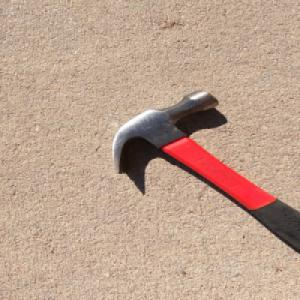Hammer: (108, 87, 300, 253)
